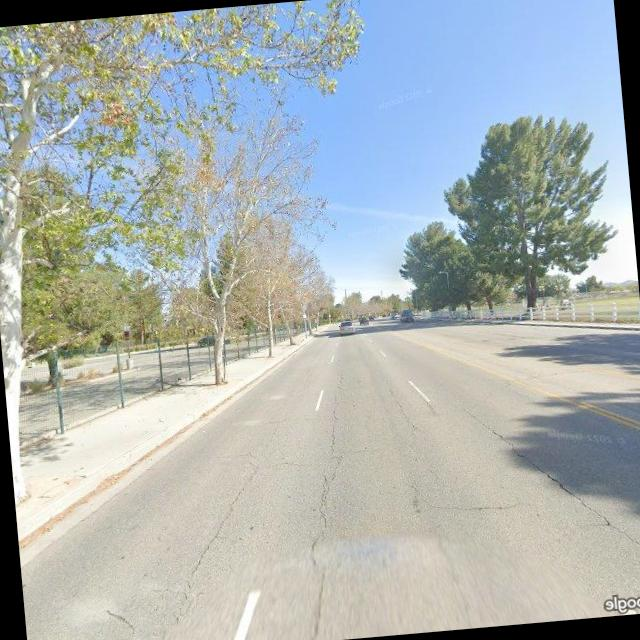crack: (465, 390, 640, 565), (162, 444, 279, 610), (306, 405, 356, 544), (422, 488, 530, 520), (386, 378, 421, 434), (102, 601, 143, 640)
